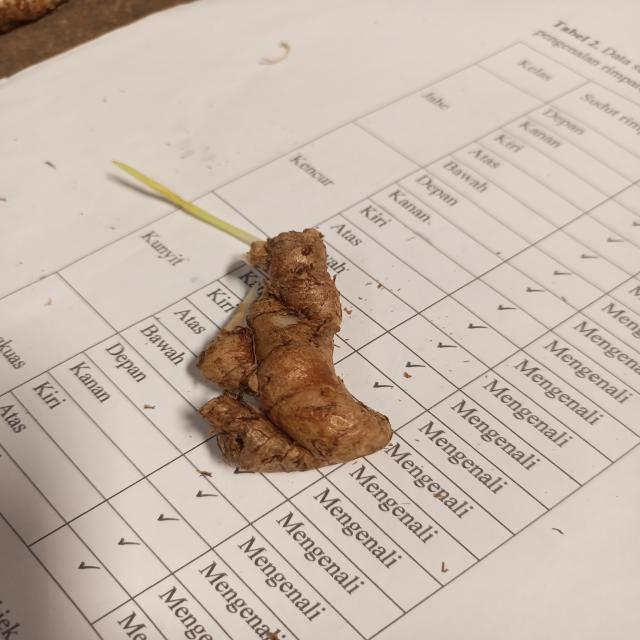ginger: (198, 230, 384, 469)
